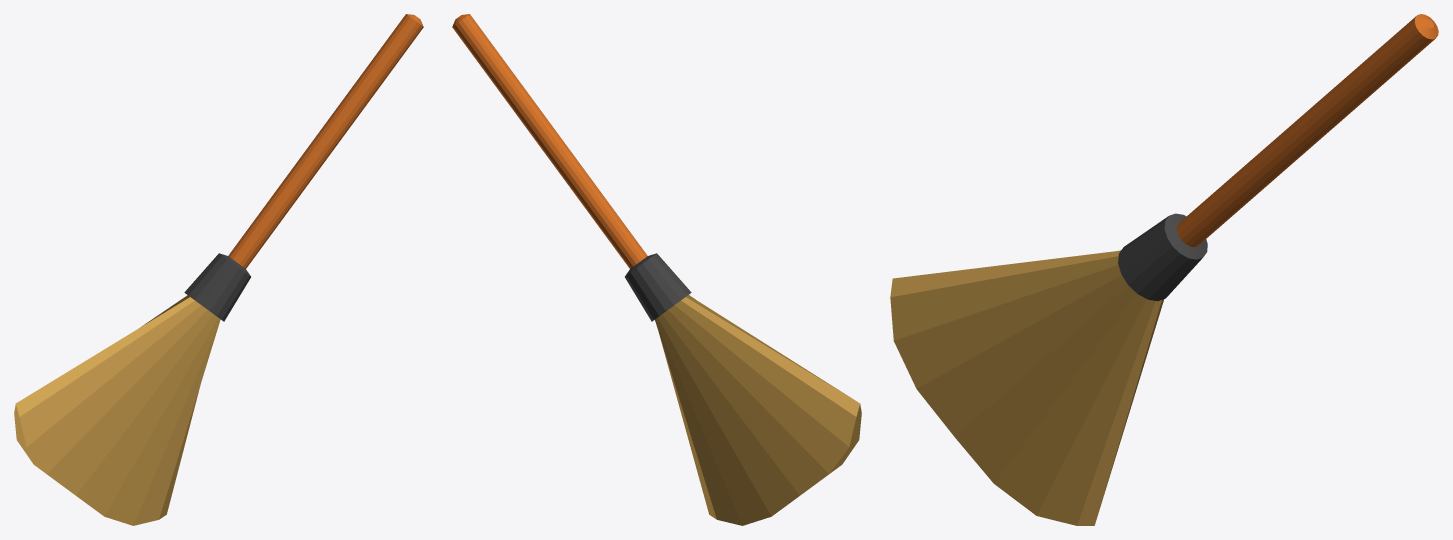
The model's file is broom.fbx.
3 views of the same model, side by side, from view 1: azimuth 30°, elevation 25°; view 2: azimuth 150°, elevation 25°; view 3: azimuth 330°, elevation 25° (orthographic). The views are drawn at different scales.
Parts seen in each view (by area): view 1: Cylinder, Cylinder.002, Cylinder.003; view 2: Cylinder, Cylinder.002, Cylinder.003; view 3: Cylinder, Cylinder.002, Cylinder.003.
Boxes of the visible parts, x1,y1,x2,y2 form: Cylinder: (14, 295, 220, 525); Cylinder.002: (228, 14, 423, 268); Cylinder.003: (184, 253, 250, 321); Cylinder: (655, 295, 861, 525); Cylinder.002: (452, 14, 647, 268); Cylinder.003: (625, 253, 691, 321); Cylinder: (890, 250, 1164, 525); Cylinder.002: (1176, 14, 1438, 247); Cylinder.003: (1118, 213, 1207, 301).
Size of the model in its own units: 159 by 165 by 16.83.
